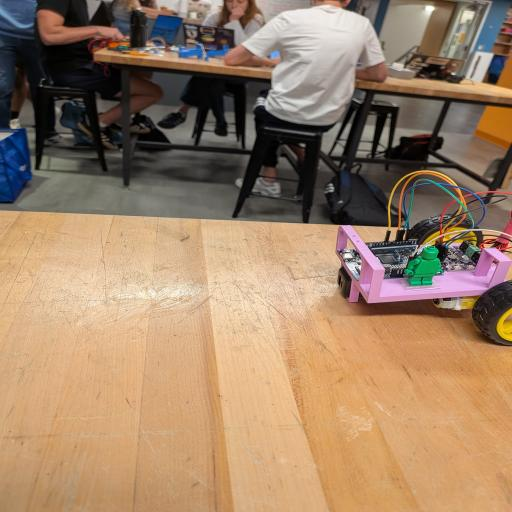Minifig: (404, 246, 443, 286)
